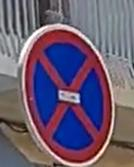paragem e estacionamento proibido: (10, 10, 129, 167)
